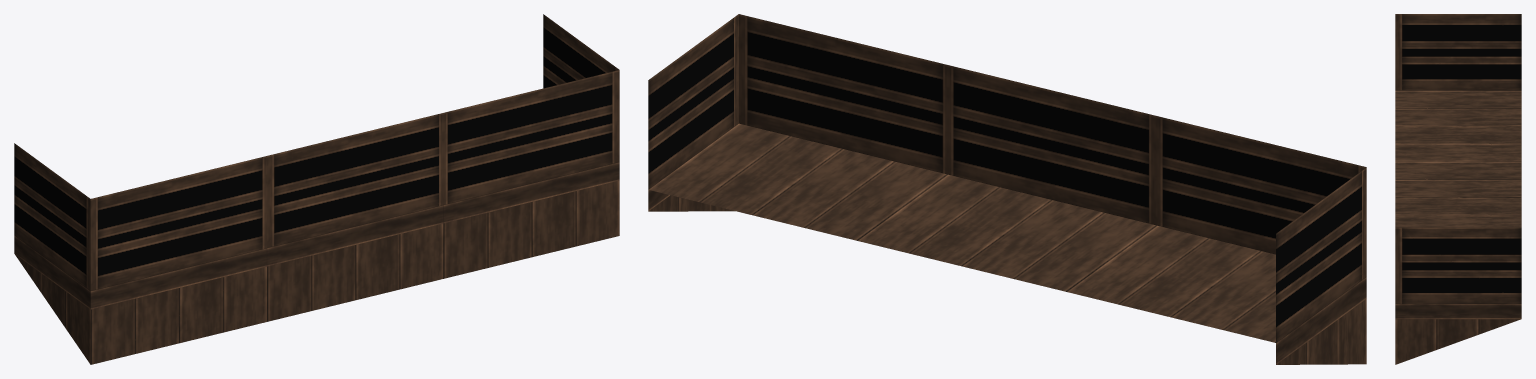
Rendered from house_balcony_6x1.fbx.
3 views of the same model, side by side, from view 1: azimuth 30°, elevation 25°; view 2: azimuth 150°, elevation 25°; view 3: azimuth 270°, elevation 25° (orthographic). The views are drawn at different scales.
Visible parts, largest first — view 1: house_balcony_6x1; view 2: house_balcony_6x1; view 3: house_balcony_6x1.
Boxes of the visible parts, left/top/right/bottom form: house_balcony_6x1: left=14, top=14, right=619, bottom=364; house_balcony_6x1: left=648, top=14, right=1366, bottom=364; house_balcony_6x1: left=1395, top=14, right=1521, bottom=364.
Bounding box in the file's own units: 600 × 180 × 150.
